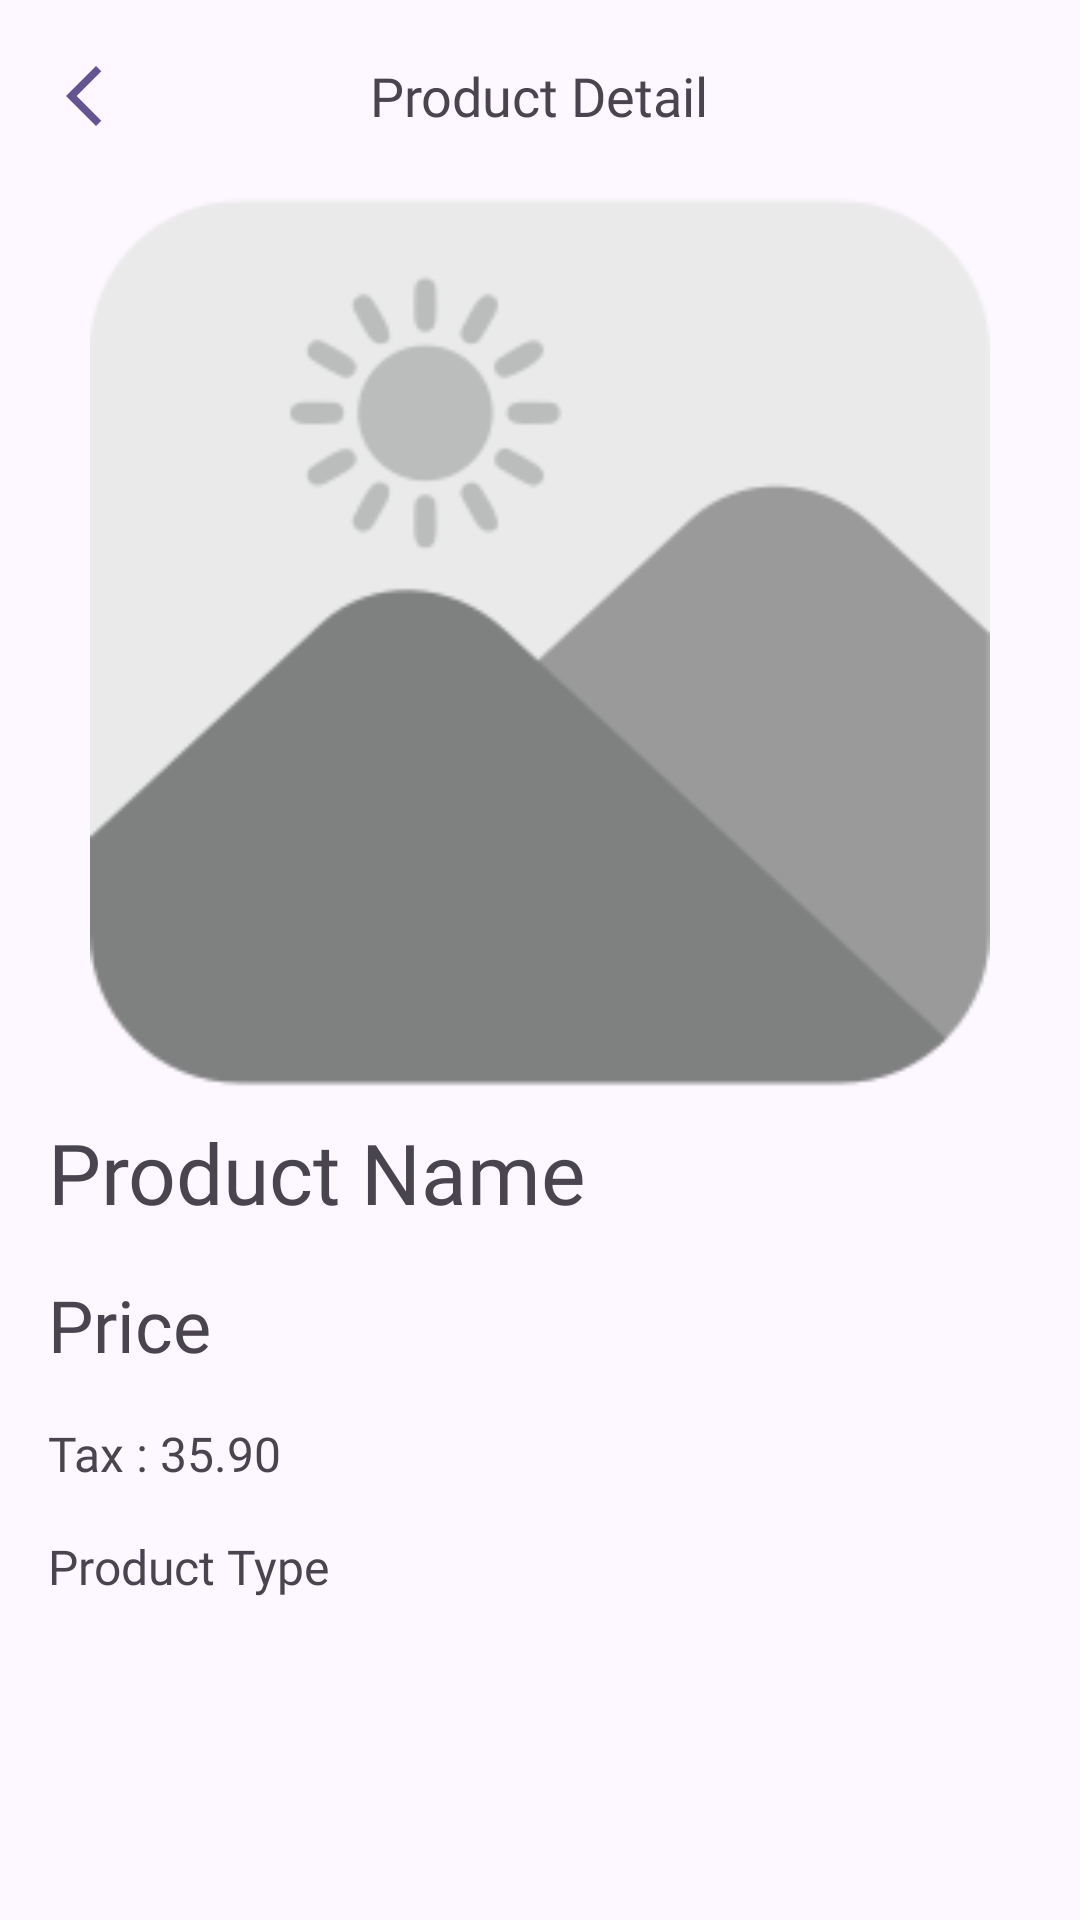

Icon click points for this 1080x1920 phone screenshot, format point (x, y):
arrow back: point (83, 96)
